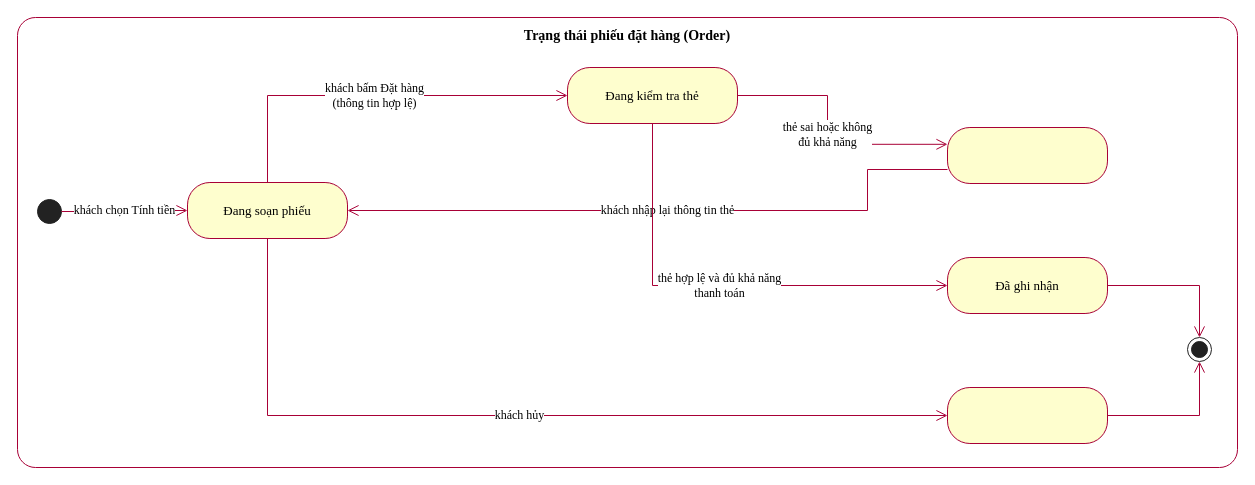
This 1255x485 diagram has some shape labels left out. The shapes that lost their labels are listed below. From the top down, each one's centre as x and y in pixels, then its label:
At (1027,155): "Thẻ bị từ chối".
At (1027,415): "Đã hủy".
